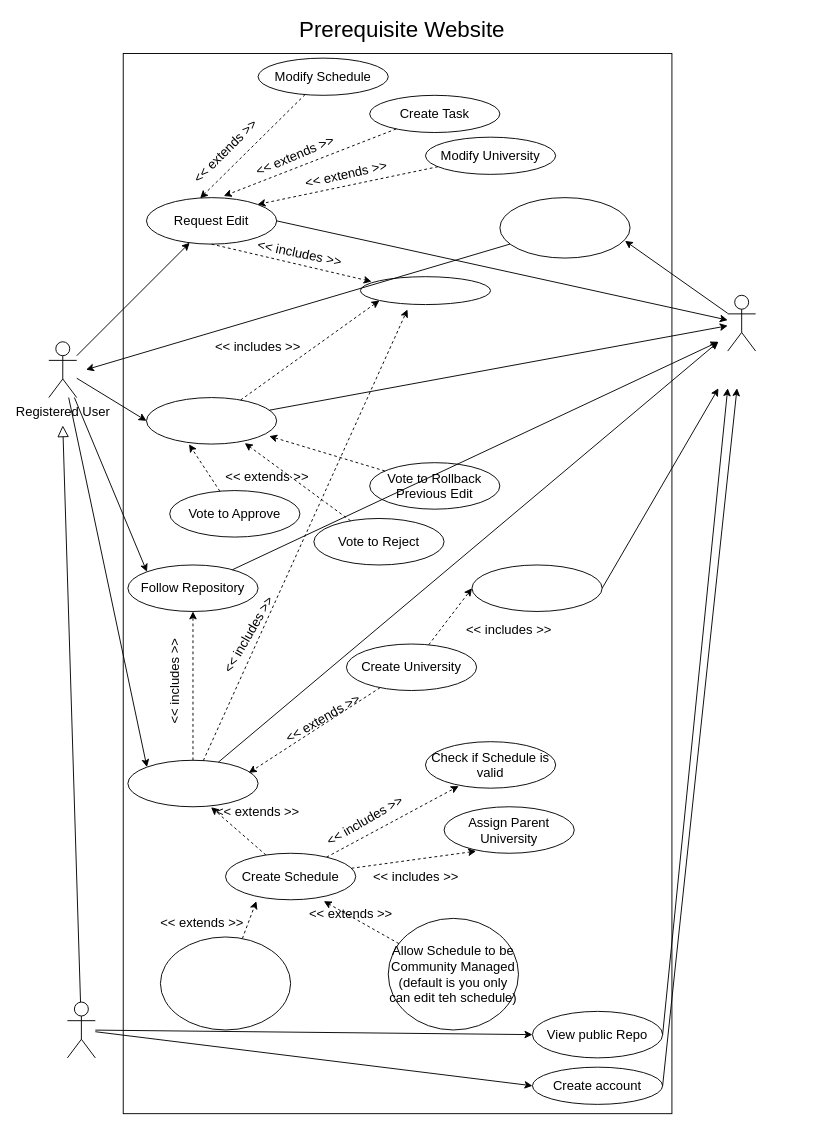
The diagram is 818 pixels wide and 1130 high, and some of its shapes have lost their labels. Each missing label, with the box of its shape:
Backend + Database: (727, 294, 756, 351)
check for Uniquness: (471, 564, 602, 611)
Clone Schedule, parent schedule updates affect cloned schedule (optional): (159, 936, 291, 1030)
Create Repository: (127, 759, 258, 807)
Notify Users when Followed Schedule is invalidated: (499, 197, 630, 258)
Sign In: (359, 276, 491, 305)
Unregistered User: (66, 1001, 95, 1058)
Vote on Edit: (146, 397, 277, 444)
